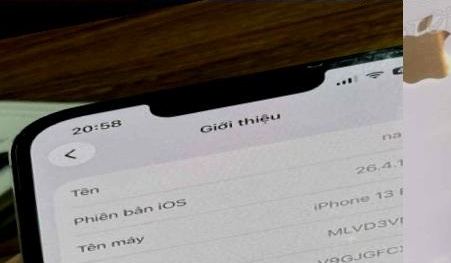physical_damage: (298, 28, 403, 113)
